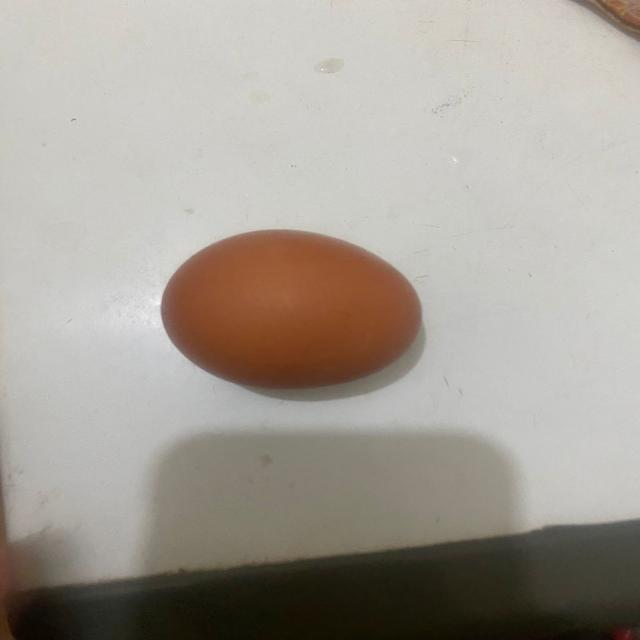Egg: (157, 222, 428, 393)
